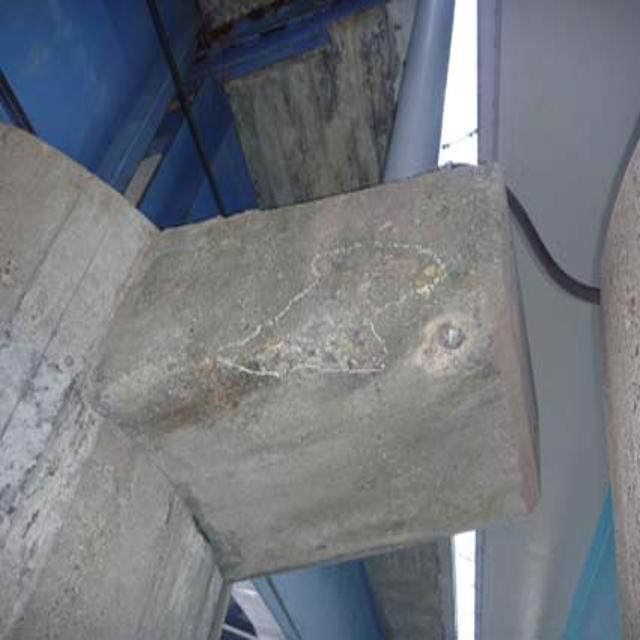spalling: (236, 243, 410, 386), (426, 302, 490, 382)
